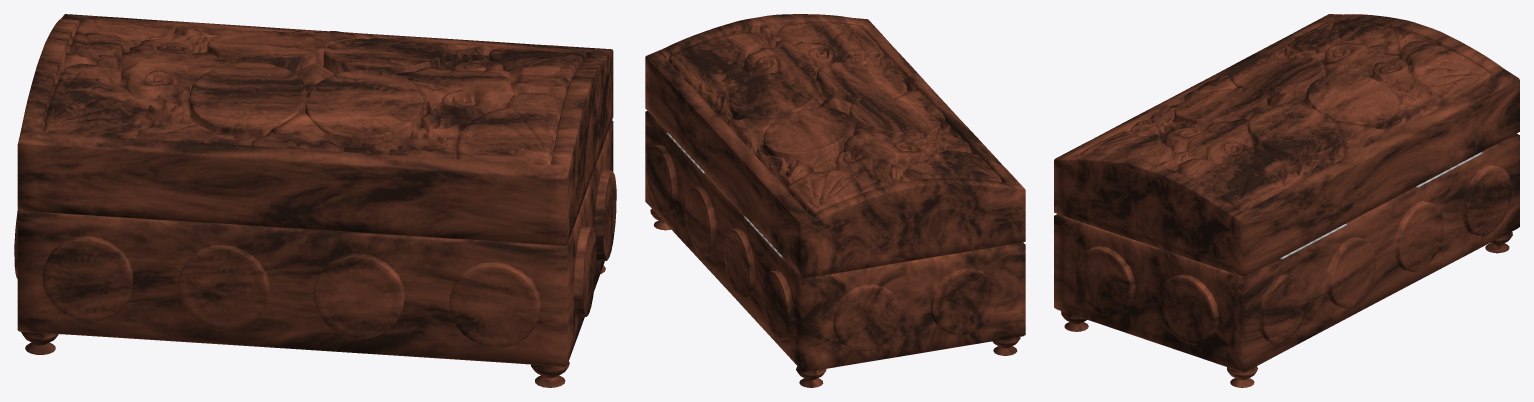
3 views of the same model, side by side, from view 1: azimuth 30°, elevation 25°; view 2: azimuth 150°, elevation 25°; view 3: azimuth 270°, elevation 25° (orthographic). The views are drawn at different scales.
Parts seen in each view (by area): view 1: Casket_top_4_11, Casket_bot_1_3; view 2: Casket_top_4_11, Casket_bot_1_3; view 3: Casket_top_4_11, Casket_bot_1_3.
Boxes of the visible parts, x1,y1,x2,y2 form: Casket_top_4_11: [17, 14, 613, 246]; Casket_bot_1_3: [14, 120, 616, 387]; Casket_top_4_11: [645, 14, 1025, 278]; Casket_bot_1_3: [645, 111, 1025, 387]; Casket_top_4_11: [1054, 14, 1519, 276]; Casket_bot_1_3: [1054, 133, 1519, 387].
Bounding box in the file's own units: 5.32 × 2.36 × 4.99.
Materials: 1 (1 with a texture image).
